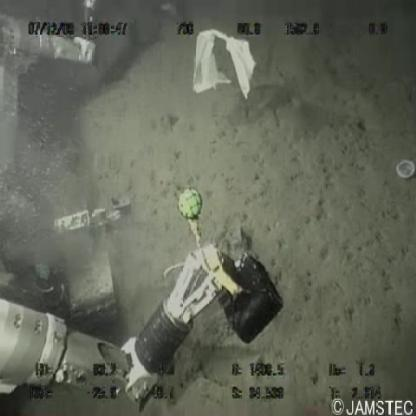Rov: (1, 1, 287, 406)
Rác: (186, 23, 263, 110)
